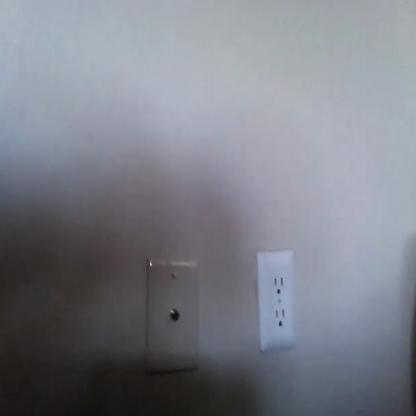OUTLET: (258, 251, 297, 348)
